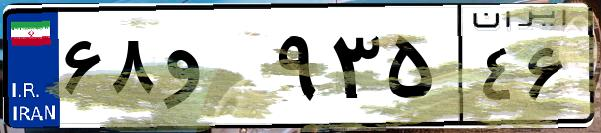3: (330, 28, 385, 110)
4: (475, 38, 525, 113)
5: (385, 28, 445, 110)
6: (57, 26, 110, 100), (525, 38, 570, 115)
8: (110, 28, 158, 98)
9: (270, 28, 330, 110)
و: (158, 20, 270, 120)
